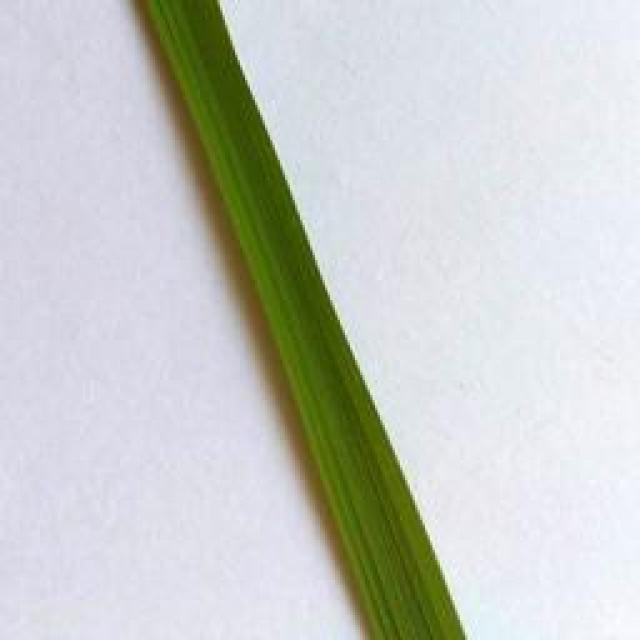Healthy-Plant: (145, 0, 466, 640)
